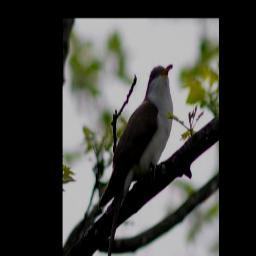Cuckoo: (97, 63, 174, 256)
